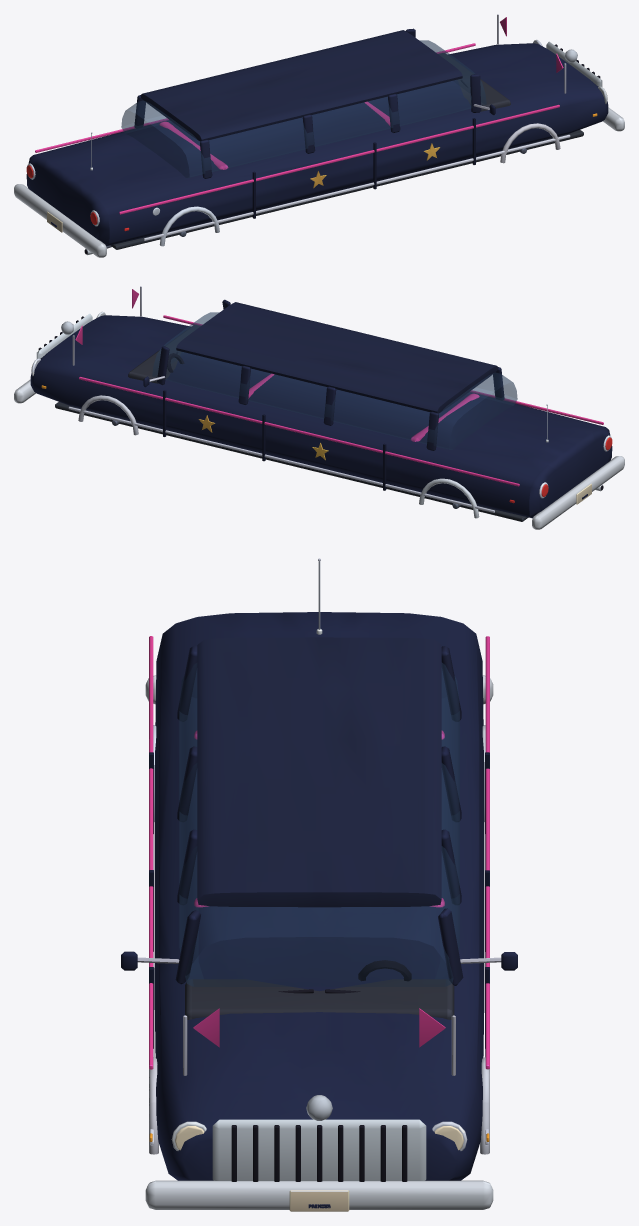
File: SM_Veh_StarLimo_Body.fbx
3 views of the same model, one above another, from view 1: azimuth 30°, elevation 25°; view 2: azimuth 150°, elevation 25°; view 3: azimuth 270°, elevation 25° (orthographic). The views are drawn at different scales.
Parts seen in each view (by area): view 1: SM_Veh_StarLimo_Body; view 2: SM_Veh_StarLimo_Body; view 3: SM_Veh_StarLimo_Body.
Boxes of the visible parts, x1=… form: SM_Veh_StarLimo_Body: x1=14, y1=14, x2=624, y2=257; SM_Veh_StarLimo_Body: x1=14, y1=286, x2=624, y2=529; SM_Veh_StarLimo_Body: x1=121, y1=558, x2=517, y2=1211.
Size of the model in its own units: 750 by 131 by 242.
